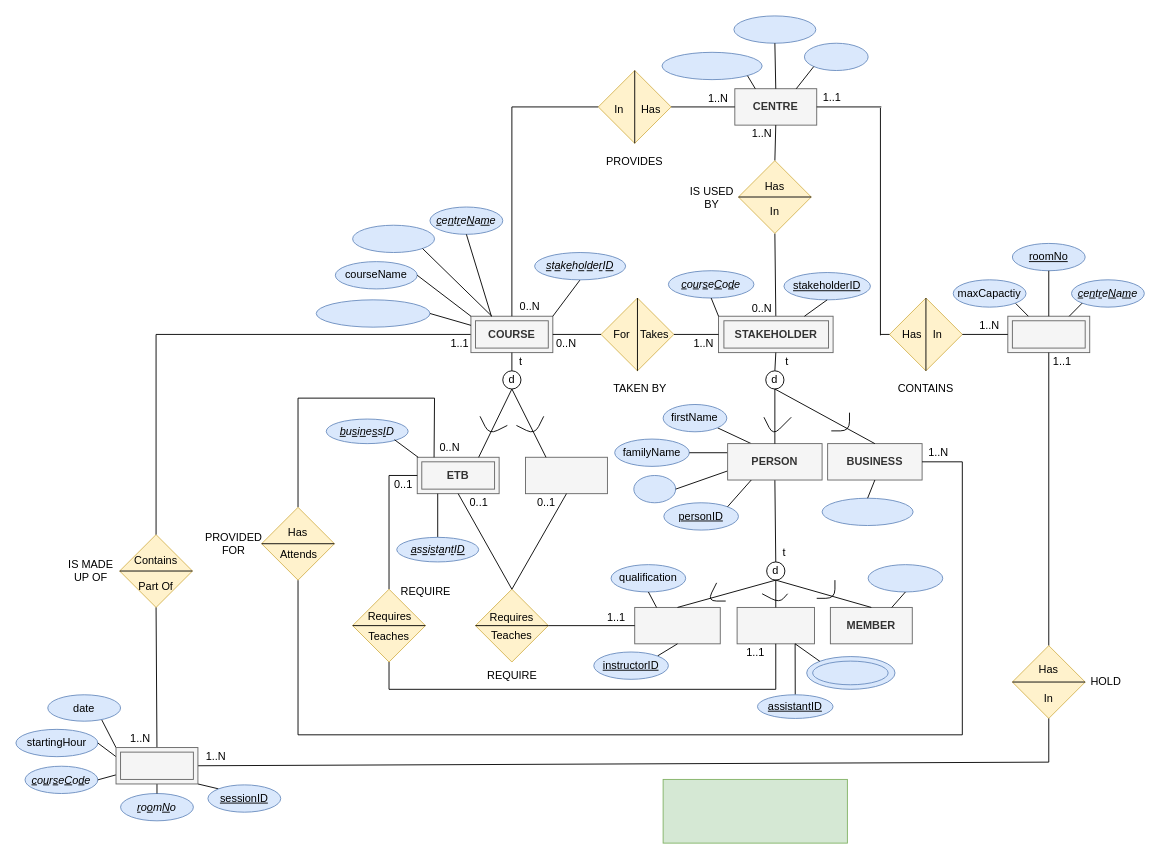
Image size: 1160x859. Some labels were removed from this diagram. The centre of each missing label's shape, as x and y in pixels:
ABBREVIATIONS DOB = DATE OF BIRTH ETB = EXCLUSIVE TO BUSINESS OTA = OPEN TO ALL: pixel 754 811
address: pixel 836 56
ASSISTANT: pixel 775 625
businessID: pixel 867 511
centreName: pixel 774 29
courseCode: pixel 393 238
DOB: pixel 654 489
INSTRUCTOR: pixel 677 625
memberID: pixel 905 578
numberOfRooms: pixel 711 65
numberOfSessions: pixel 372 313
OTA: pixel 566 475
ROOM: pixel 1048 334
SESSION: pixel 156 765
trainingCert: pixel 850 672
